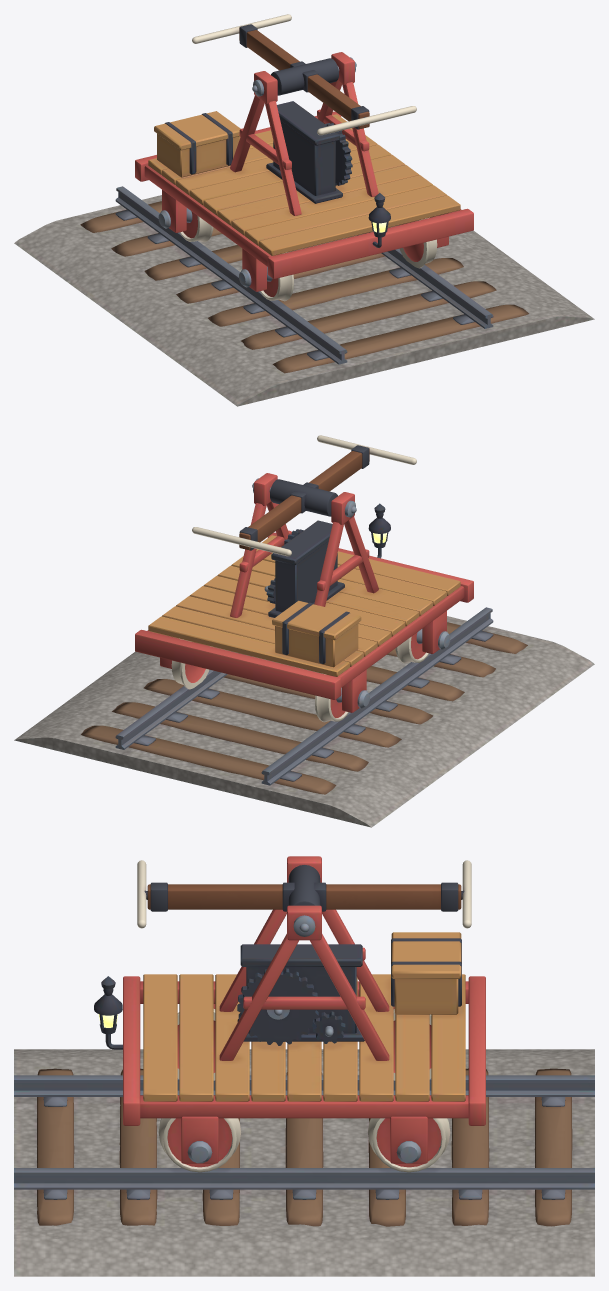
The model's file is handcar.glb.
The picture shows the model from 3 angles, top to bottom: view 1: azimuth 30°, elevation 25°; view 2: azimuth 150°, elevation 25°; view 3: azimuth 270°, elevation 25°; orthographic projection. The views are drawn at different scales.
Visible parts, largest first — view 1: handcar_body, handcar_lever; view 2: handcar_body, handcar_lever; view 3: handcar_body, handcar_lever.
Boxes of the visible parts, x1,y1,x2,y2 form: handcar_body: (14,52,594,406); handcar_lever: (192,14,416,135); handcar_body: (14,473,594,827); handcar_lever: (192,435,416,556); handcar_body: (14,856,594,1276); handcar_lever: (137,860,471,928).
Bounding box in the file's own units: 3.7 × 2.13 × 4.
Materials: 3 (2 with a texture image).
